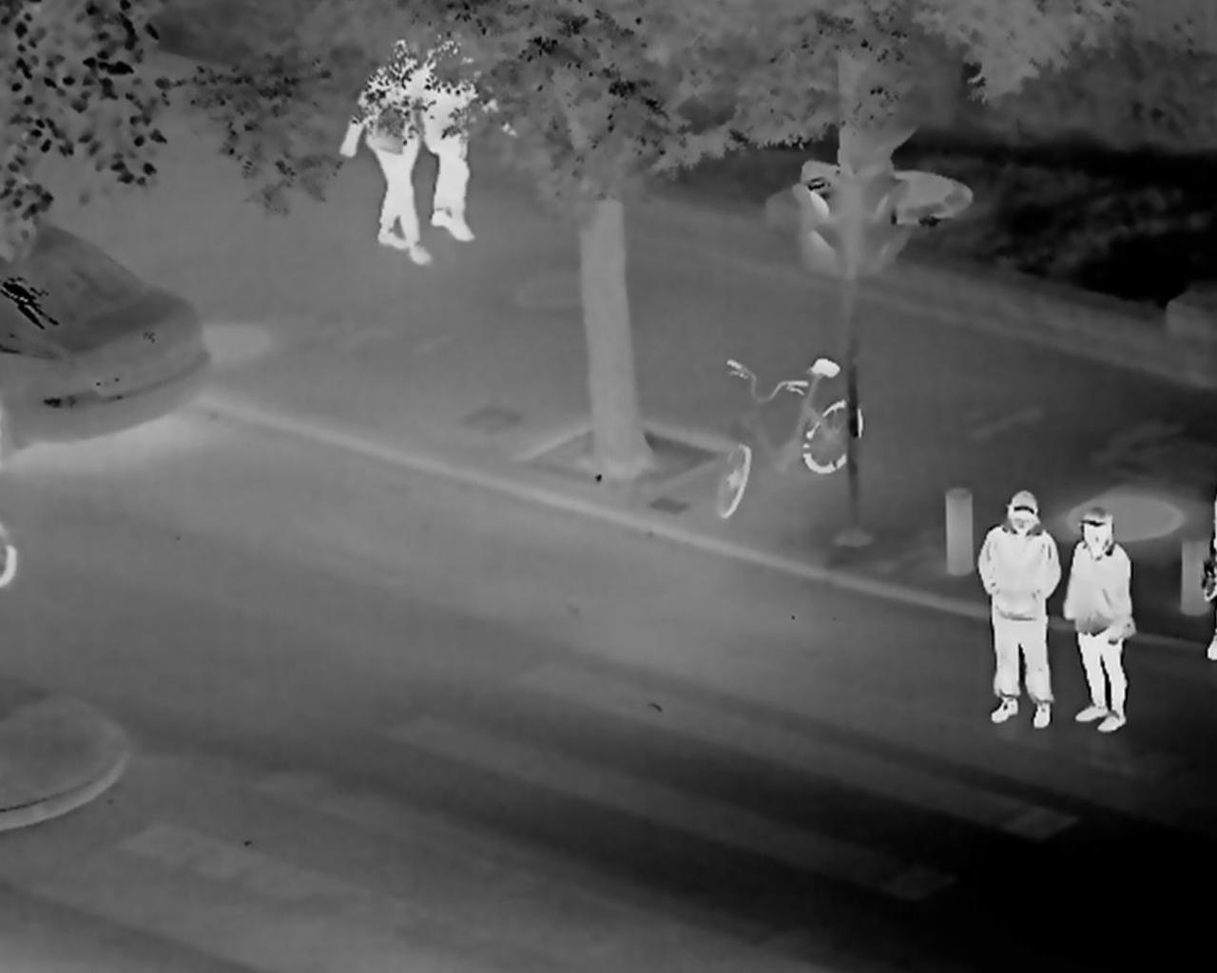person: (335, 37, 432, 266), (979, 488, 1058, 732), (409, 21, 493, 246), (1063, 508, 1135, 734)
